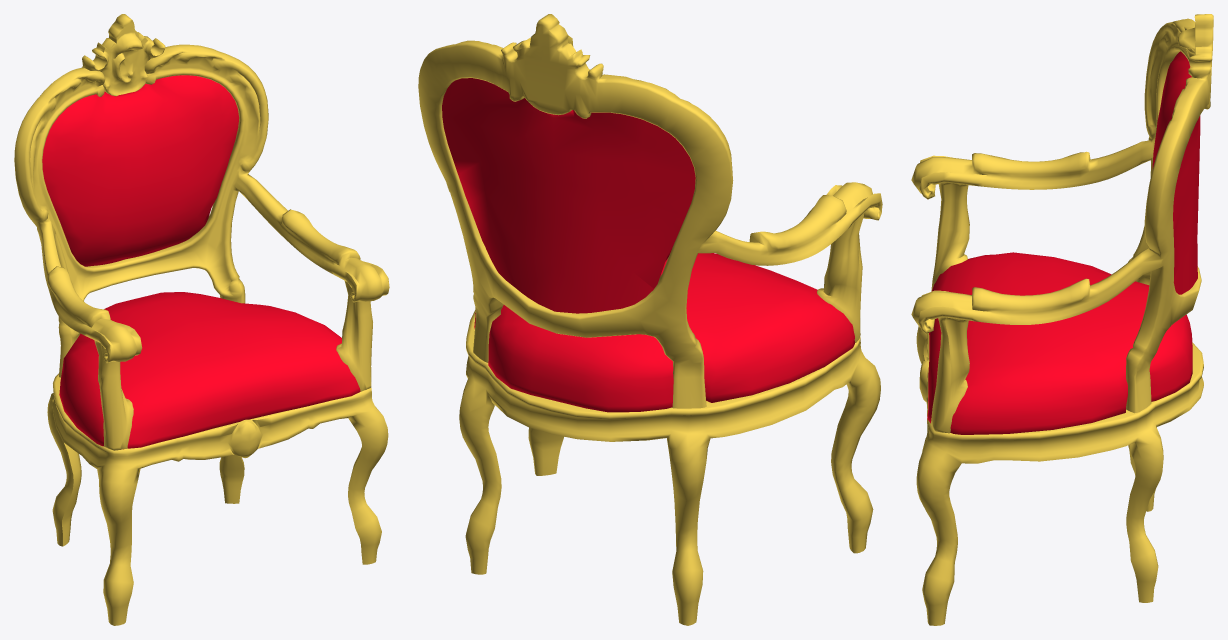
Rendered from Chair.fbx.
3 views of the same model, side by side, from view 1: azimuth 30°, elevation 25°; view 2: azimuth 150°, elevation 25°; view 3: azimuth 270°, elevation 25° (orthographic). The views are drawn at different scales.
Parts seen in each view (by area): view 1: a_base.001; view 2: a_base.001; view 3: a_base.001.
Part boxes in pixels (<box>): a_base.001: <box>14,14,389,625</box>; a_base.001: <box>418,14,882,625</box>; a_base.001: <box>911,14,1213,625</box>.
Size of the model in its own units: 76.18 by 125 by 63.13.
